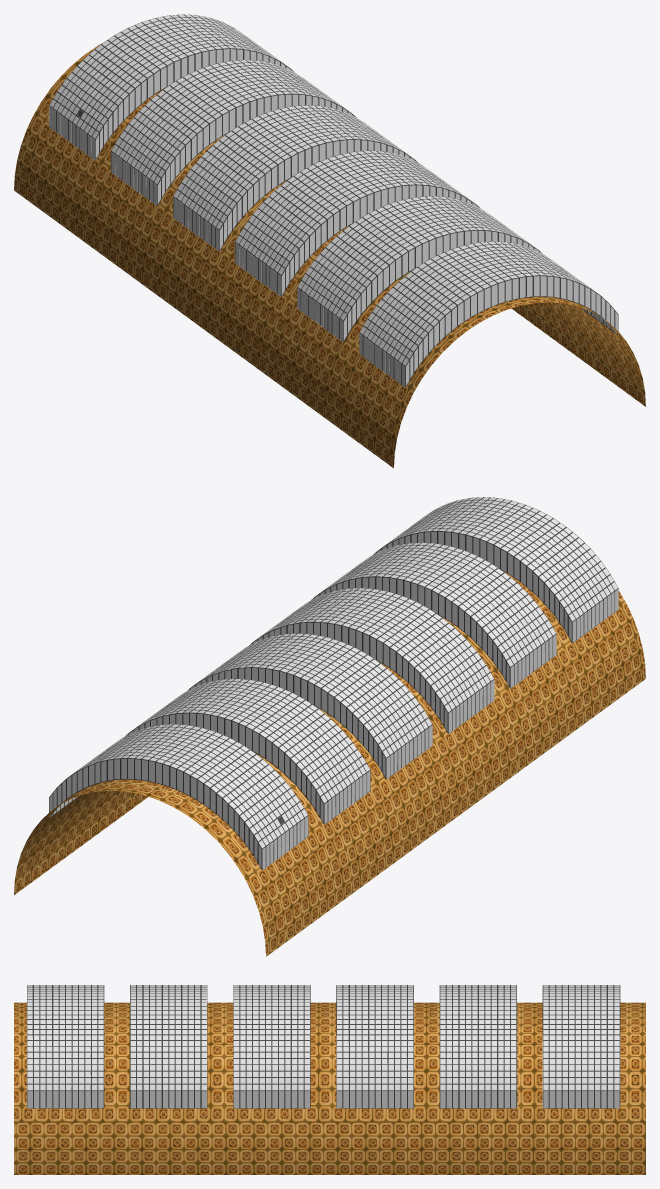
File: orsay_ceiling.fbx
3 views of the same model, one above another, from view 1: azimuth 30°, elevation 25°; view 2: azimuth 150°, elevation 25°; view 3: azimuth 270°, elevation 25° (orthographic). The views are drawn at different scales.
Parts seen in each view (by area): view 1: Cylinder; view 2: Cylinder; view 3: Cylinder.
Part boxes in pixels (left/top/right/bottom): Cylinder: left=14, top=14, right=645, bottom=468; Cylinder: left=14, top=497, right=645, bottom=956; Cylinder: left=14, top=985, right=645, bottom=1174.
Size of the model in its own units: 5456 by 3168 by 14248.
